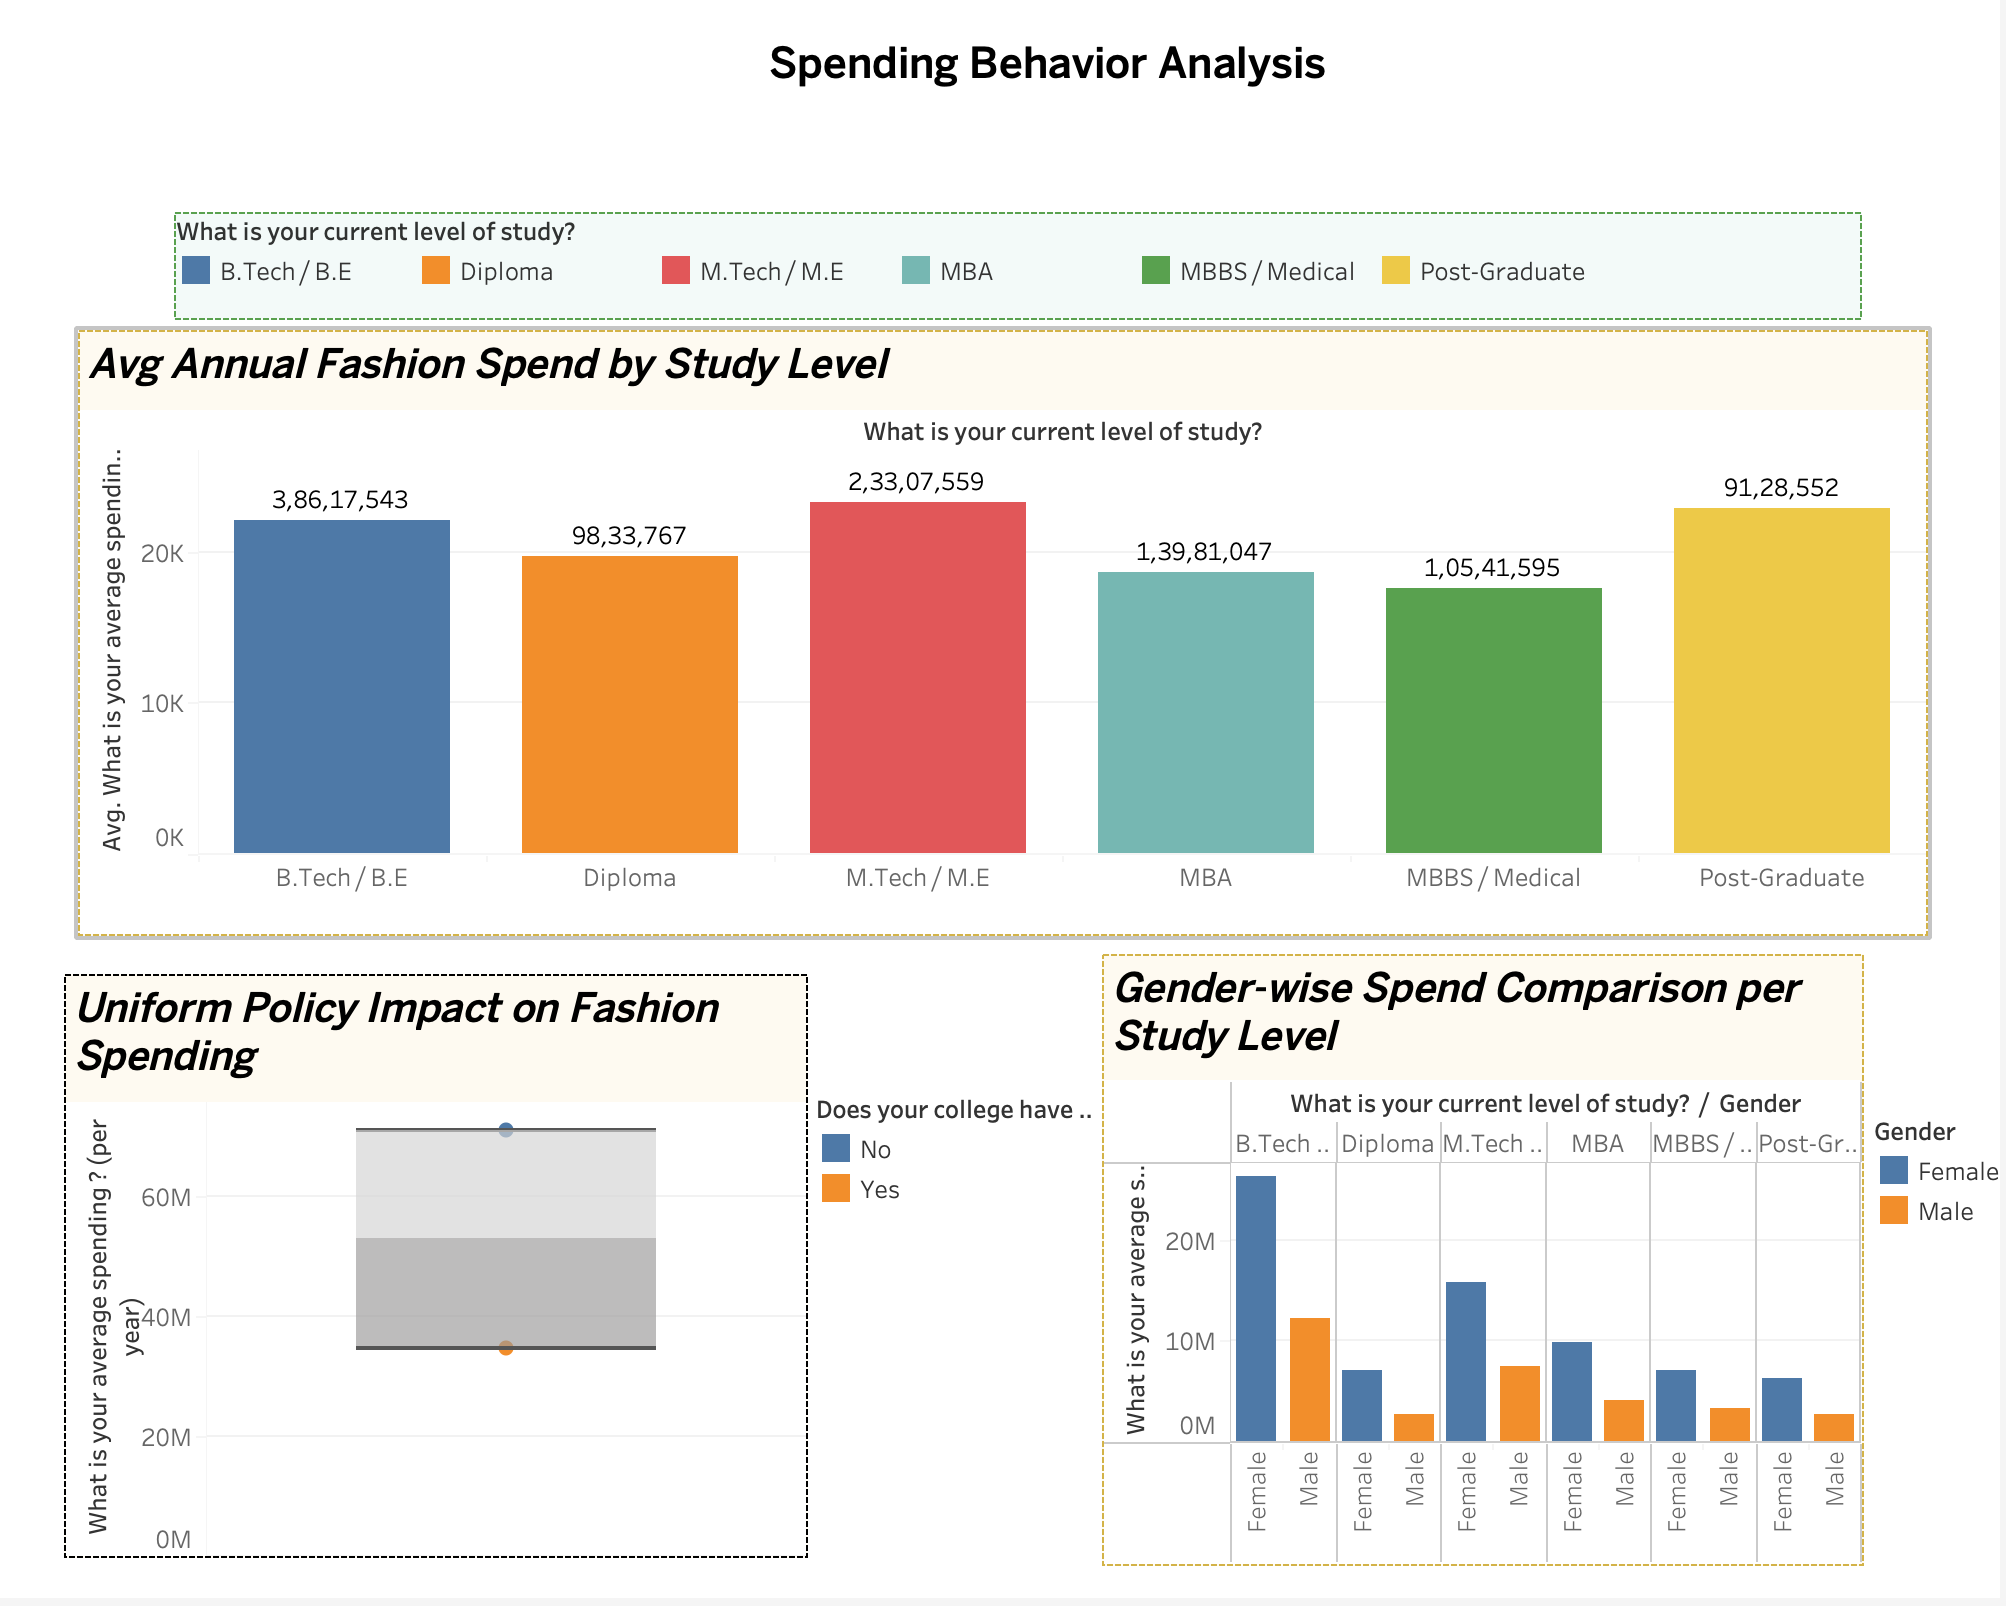

The page's visual inventory and layout, read from the dashboard file:
{"tool":"tableau","page":{"name":"Spending Behavior Analysis","canvas":[1000,800],"ordinal":2},"visuals":[{"type":"text","box":[382,18,284,30]},{"type":"legend","title":"Average Spending by Study Level (Bar Chart)","param":"[federated.1f0ar921e5crdw19n65z90w59u7y].[none:What is your current level of stu","box":[87,107,844,54]},{"type":"worksheet","title":"Average Spending by Study Level (Bar Chart)","mark":"Automatic","rows":["What is your average spending ? (per year)"],"cols":["What is your current level of study?"],"box":[39,166,925,303]},{"type":"worksheet","title":"Spending by Gender (Side-by-Side Bar)","mark":"Automatic","rows":["What is your average spending ? (per year)"],"cols":["What is your current level of study?","Gender"],"box":[551,478,381,306]},{"type":"worksheet","title":"Uniform vs No Uniform Spending (Box Plot)","mark":"Circle","rows":["What is your average spending ? (per year)"],"box":[32,488,372,292]},{"type":"legend","title":"Uniform vs No Uniform Spending (Box Plot)","param":"[federated.1f0ar921e5crdw19n65z90w59u7y].[none:Does your college have a uniform ","box":[408,547,140,58]}]}

Visuals, with their boxes in screenshot pixels (x1, y1, x2, y2), scaled from the page's 1000x800 canvas onto the 2006x1606 screenshot:
text: box(766, 36, 1336, 96)
"Average Spending by Study Level (Bar Chart)" legend: box(175, 215, 1868, 323)
"Average Spending by Study Level (Bar Chart)" worksheet: box(78, 333, 1934, 942)
"Spending by Gender (Side-by-Side Bar)" worksheet: box(1105, 960, 1870, 1574)
"Uniform vs No Uniform Spending (Box Plot)" worksheet (Circle marks): box(64, 980, 810, 1566)
"Uniform vs No Uniform Spending (Box Plot)" legend: box(818, 1098, 1099, 1215)
